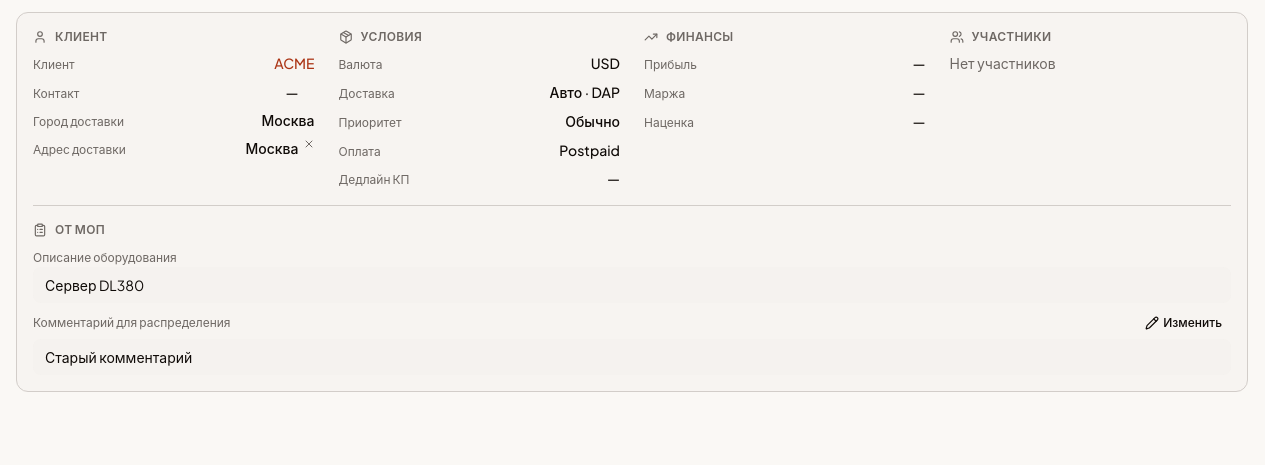
Test: ContextPanel — distribution_comment edit affordance (row 61) › clicking «Изменить» opens an inline textarea
The width and height of the screenshot is (1265, 465).
Step 1. Click the button with test id "context-panel-distribution-comment-edit" → (1184, 323), box [1136, 311, 1231, 335]
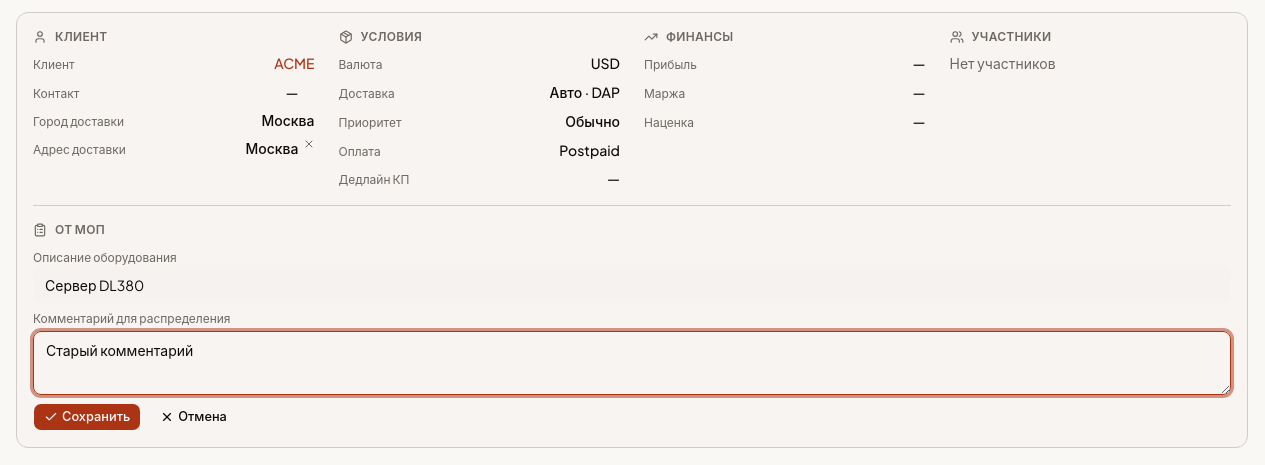
Expected: the text box with test id "context-panel-distribution-comment-textarea" holds "Старый комментарий", [33, 331, 1231, 395]
Expected: the button with test id "context-panel-distribution-comment-save" is shown, [33, 403, 141, 431]
Expected: the button with test id "context-panel-distribution-comment-cancel" is shown, [149, 403, 238, 431]
